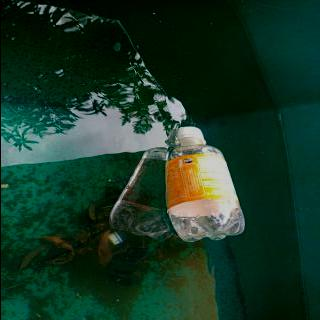bottle: (163, 126, 244, 244)
